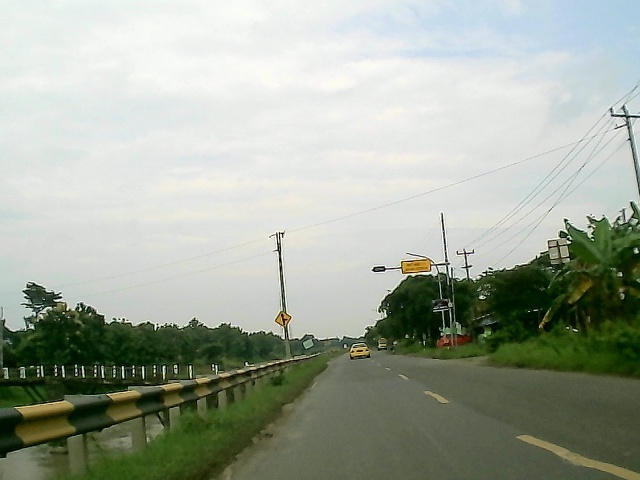Simpang kanan dengan prioritas: (271, 309, 294, 330)
